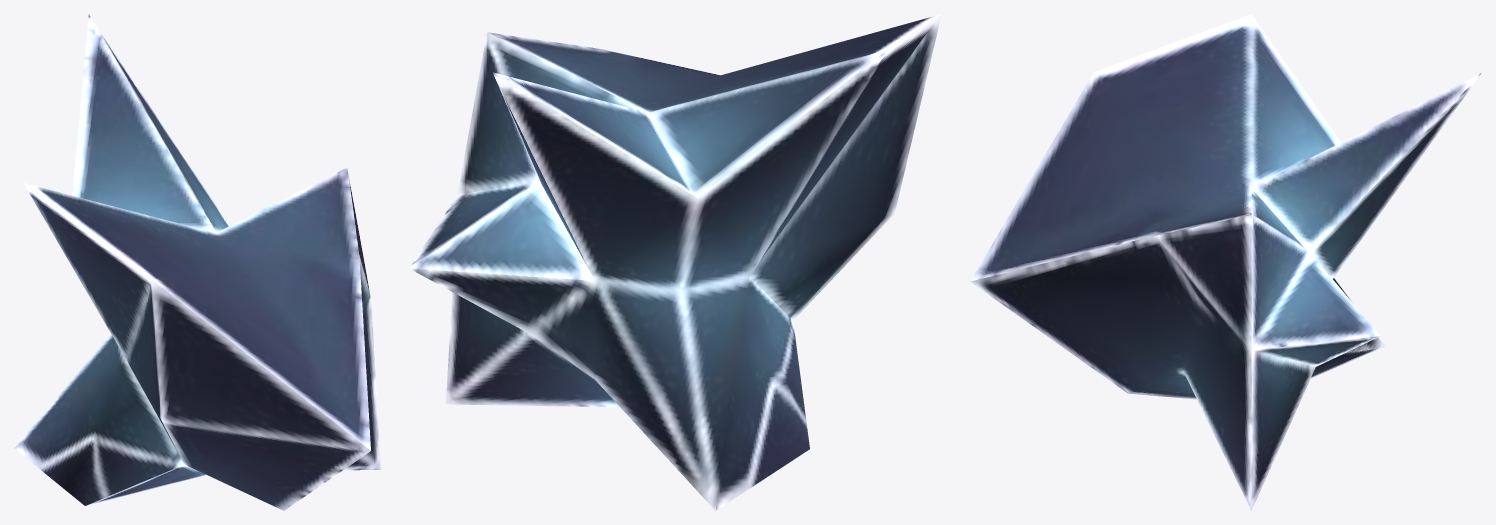
File: rock_b.glb
The picture shows the model from 3 angles, left to right: view 1: azimuth 30°, elevation 25°; view 2: azimuth 150°, elevation 25°; view 3: azimuth 270°, elevation 25°; orthographic projection. The views are drawn at different scales.
Visible parts, largest first — view 1: Rocks_8.001; view 2: Rocks_8.001; view 3: Rocks_8.001.
Part boxes in pixels (bbox=[...]): Rocks_8.001: bbox=[14, 14, 380, 510]; Rocks_8.001: bbox=[409, 14, 941, 510]; Rocks_8.001: bbox=[970, 14, 1481, 510].
Bounding box in the file's own units: 0.8406 × 0.9054 × 1.15.
Materials: 1 (1 with a texture image).
